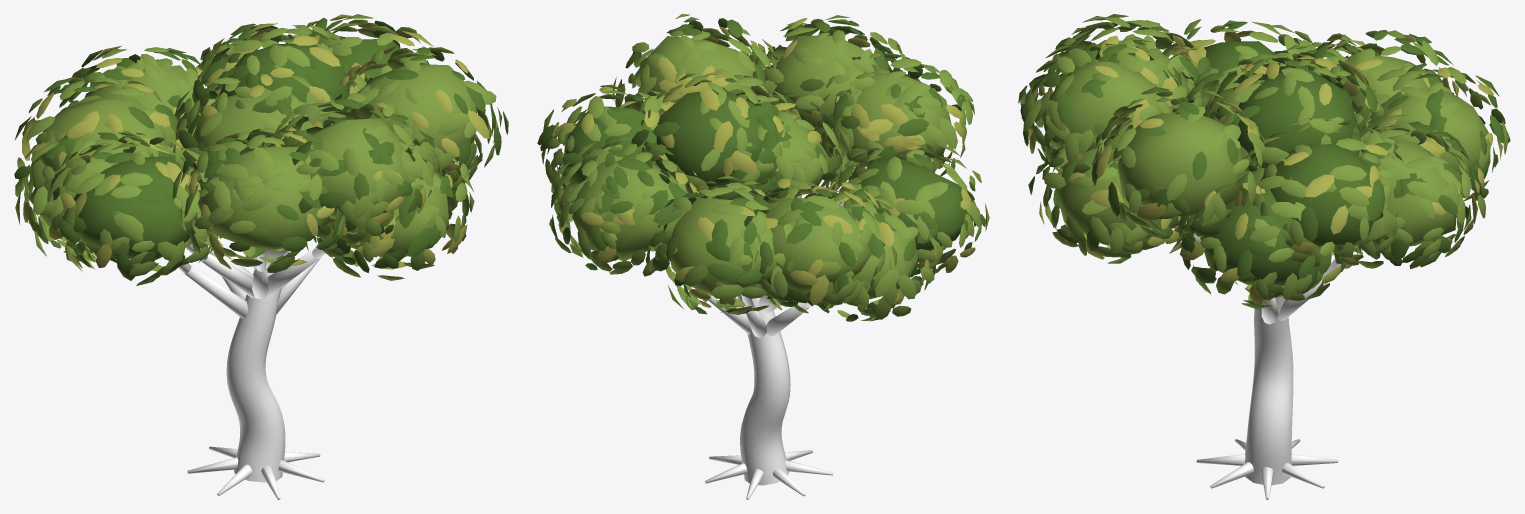
File: PlaneTree.glb
3 renders of one model, left to right at view 1: azimuth 30°, elevation 25°; view 2: azimuth 150°, elevation 25°; view 3: azimuth 270°, elevation 25°, orthographic. The views are drawn at different scales.
Parts seen in each view (by area): view 1: RK_PlaneTree_RK_Leaf, RK_PlaneTree_RK_LeafDark, RK_PlaneTree_RK_Bark, RK_PlaneTree_RK_LeafGold; view 2: RK_PlaneTree_RK_Leaf, RK_PlaneTree_RK_LeafDark, RK_PlaneTree_RK_LeafGold, RK_PlaneTree_RK_Bark; view 3: RK_PlaneTree_RK_Leaf, RK_PlaneTree_RK_LeafDark, RK_PlaneTree_RK_LeafGold, RK_PlaneTree_RK_Bark.
Boxes of the visible parts, left/top/right/bottom form: RK_PlaneTree_RK_Leaf: left=15, top=14, right=508, bottom=285; RK_PlaneTree_RK_LeafDark: left=14, top=17, right=501, bottom=280; RK_PlaneTree_RK_Bark: left=178, top=241, right=325, bottom=499; RK_PlaneTree_RK_LeafGold: left=22, top=14, right=498, bottom=280; RK_PlaneTree_RK_Leaf: left=541, top=15, right=981, bottom=320; RK_PlaneTree_RK_LeafDark: left=537, top=18, right=985, bottom=321; RK_PlaneTree_RK_LeafGold: left=551, top=14, right=989, bottom=314; RK_PlaneTree_RK_Bark: left=705, top=166, right=867, bottom=499; RK_PlaneTree_RK_Leaf: left=1018, top=16, right=1510, bottom=309; RK_PlaneTree_RK_LeafDark: left=1020, top=14, right=1505, bottom=304; RK_PlaneTree_RK_LeafGold: left=1029, top=26, right=1502, bottom=303; RK_PlaneTree_RK_Bark: left=1173, top=225, right=1355, bottom=499.
Bounding box in the file's own units: 6.35 × 6.02 × 6.14.
